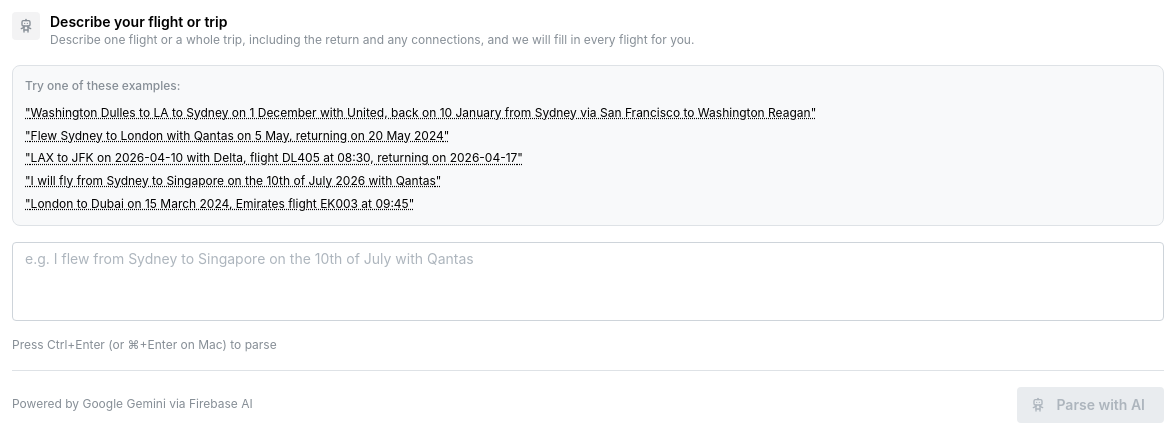
Test: FlightChatInput › clicking an example populates the textarea
Click the 4th button. click: (233, 181)
box: [25,173,1151,190]
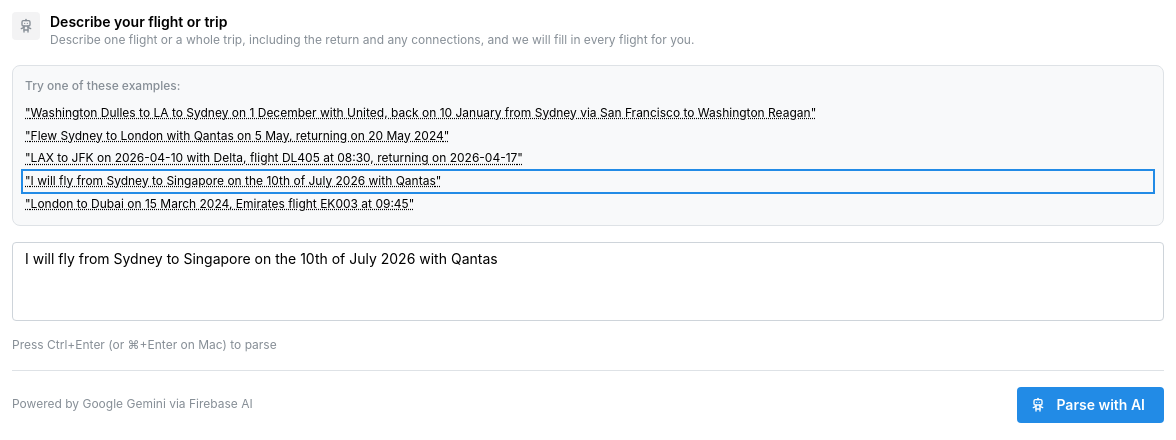
Check: the text box holds "I will fly from Sydney to Singapore on the 10th of July 2026 with Qantas", box [12,242,1164,321]
